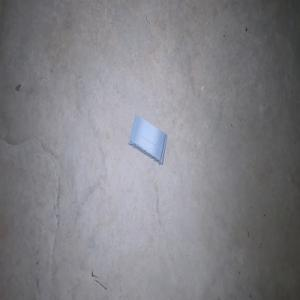PlasticPart: (128, 114, 167, 166)
